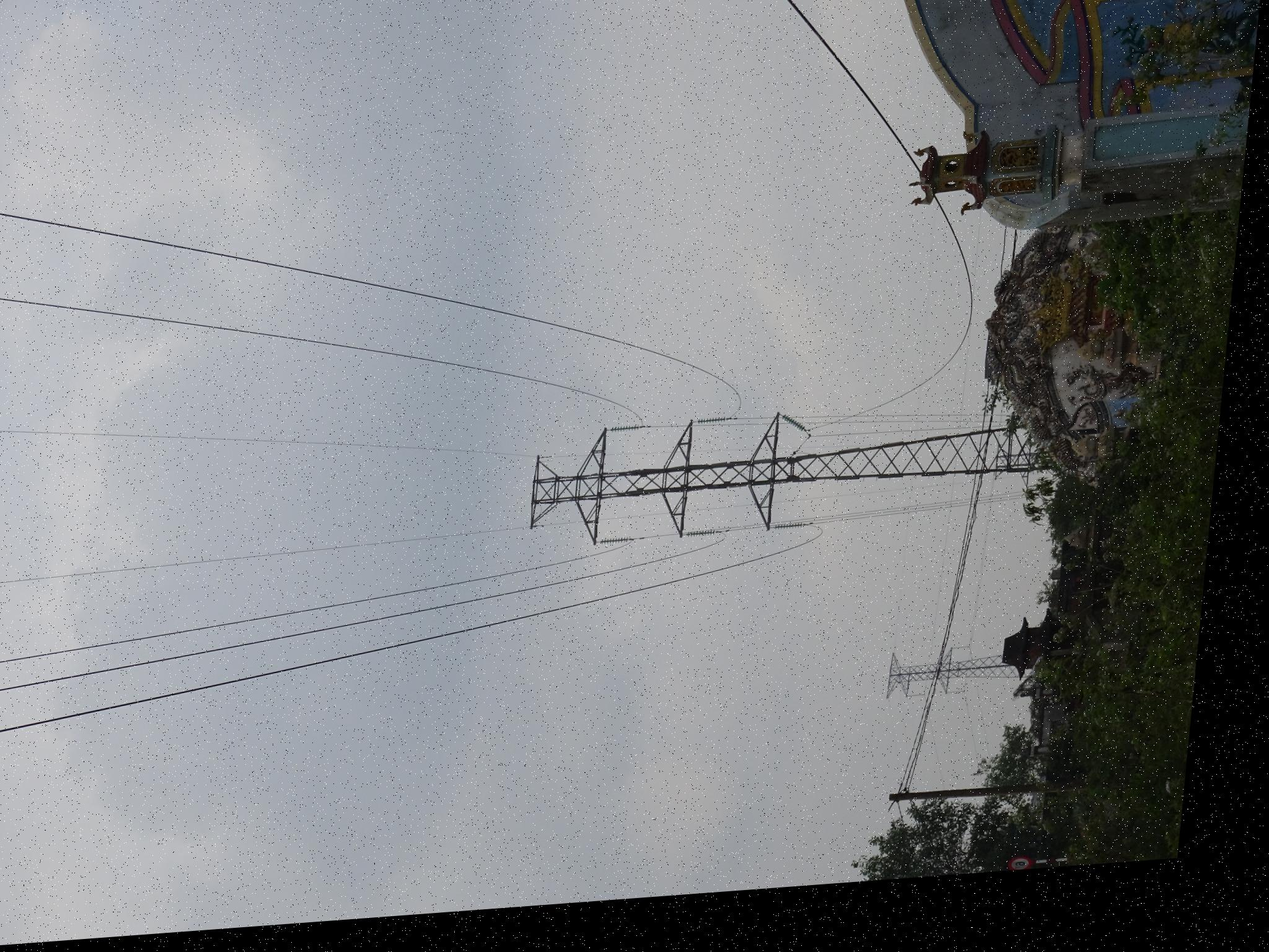tower: (426, 0, 605, 348)
